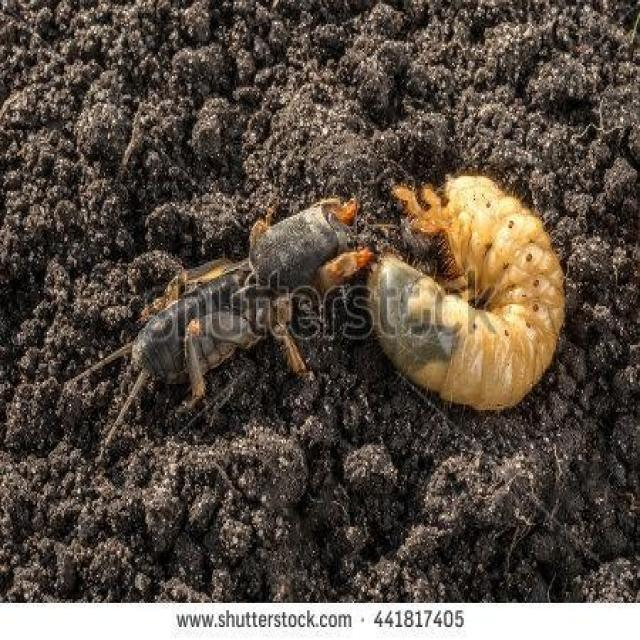grub: (375, 183, 571, 402)
